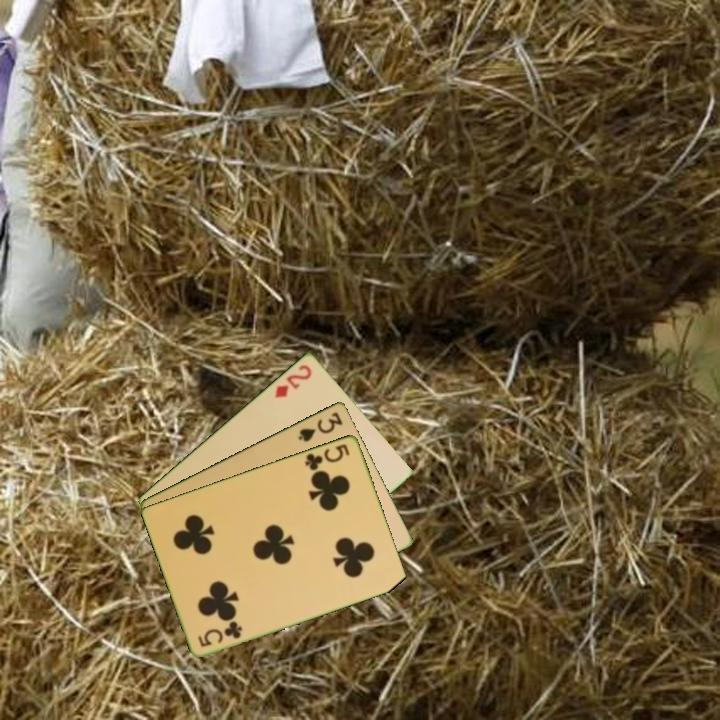2d: (271, 361, 315, 400)
3s: (294, 408, 346, 444)
5c: (301, 440, 352, 473), (194, 618, 245, 650)
